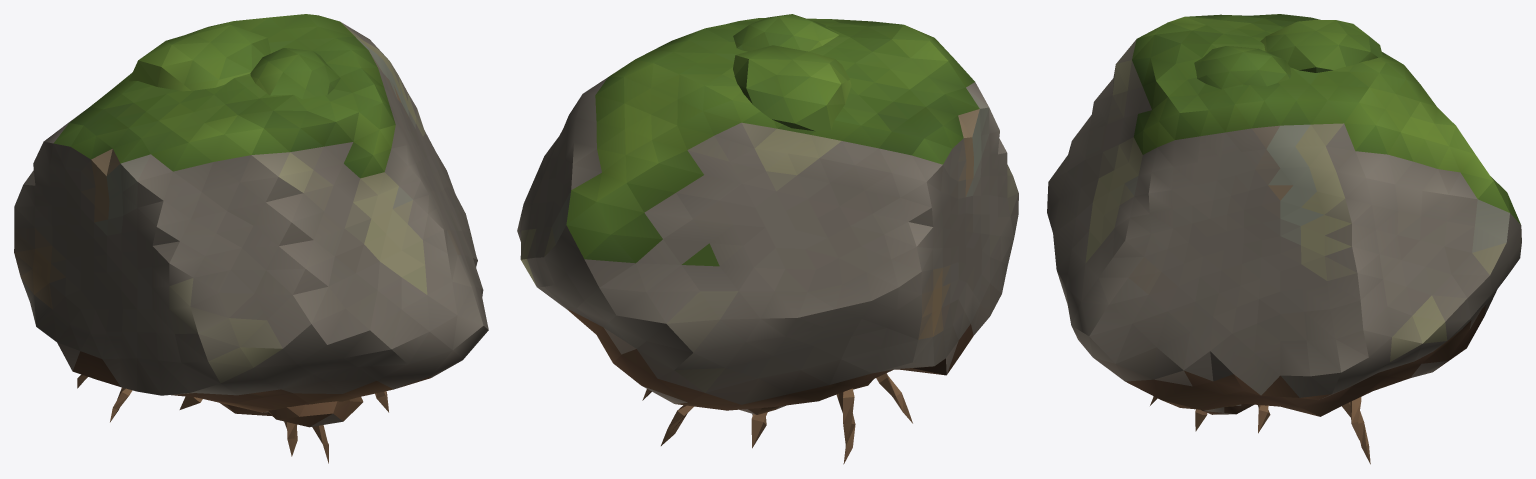
File: balgath_boulder.glb
The picture shows the model from 3 angles, left to right: view 1: azimuth 30°, elevation 25°; view 2: azimuth 150°, elevation 25°; view 3: azimuth 270°, elevation 25°; orthographic projection. The views are drawn at different scales.
Parts seen in each view (by area): view 1: boulder; view 2: boulder; view 3: boulder.
Part boxes in pixels (box(x1,y1,x2,y2)): boulder: box(14, 14, 488, 463); boulder: box(517, 14, 1018, 464); boulder: box(1047, 14, 1521, 464).
Size of the model in its own units: 1.79 by 1.61 by 1.79.
